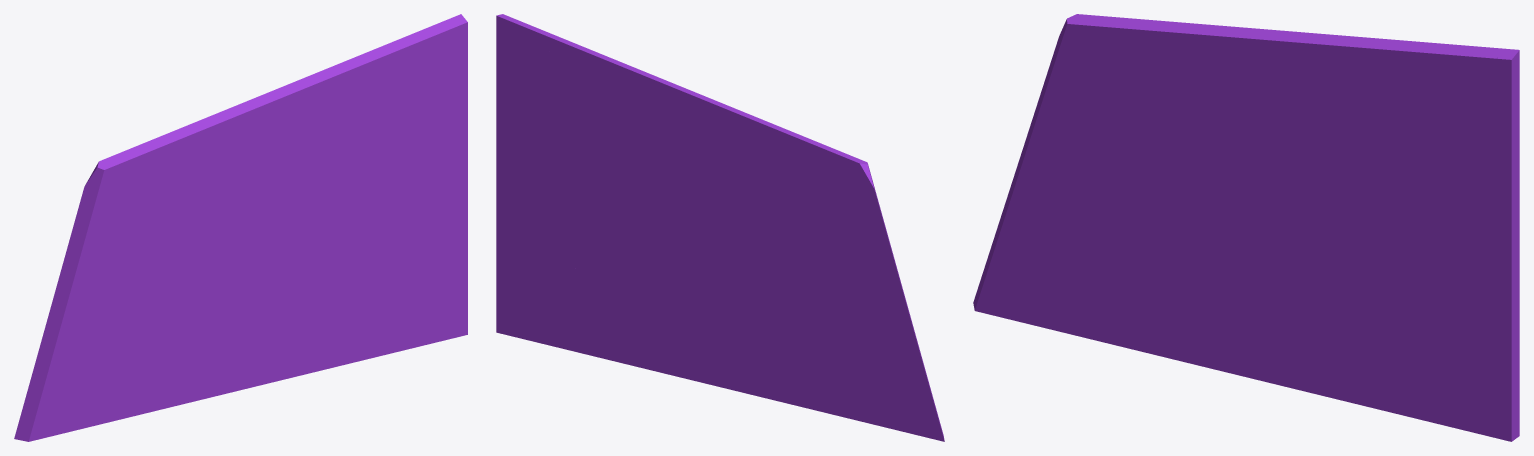
The model's file is Glass_12_2_chunks.fbx.
The picture shows the model from 3 angles, left to right: view 1: azimuth 30°, elevation 25°; view 2: azimuth 150°, elevation 25°; view 3: azimuth 330°, elevation 25°; orthographic projection. The views are drawn at different scales.
Parts seen in each view (by area): view 1: Glass_12_2_5, Glass_12_2_1, Glass_12_2_2, Glass_12_2_6, Glass_12_2_14, Glass_12_2_7, Glass_12_2_11, Glass_12_2_12, Glass_12_2_9, Glass_12_2_3, Glass_12_2_15, Glass_12_2_4 (+3 smaller); view 2: Glass_12_2_1, Glass_12_2_5, Glass_12_2_2, Glass_12_2_7, Glass_12_2_9, Glass_12_2_14, Glass_12_2_4, Glass_12_2_15, Glass_12_2_12, Glass_12_2_0, Glass_12_2_11, Glass_12_2_8 (+3 smaller); view 3: Glass_12_2_5, Glass_12_2_1, Glass_12_2_2, Glass_12_2_6, Glass_12_2_14, Glass_12_2_7, Glass_12_2_11, Glass_12_2_12, Glass_12_2_9, Glass_12_2_15, Glass_12_2_3, Glass_12_2_4 (+3 smaller).
Boxes of the visible parts, box(x1,y1,x2,y2) form: Glass_12_2_5: box(242, 222, 445, 379); Glass_12_2_1: box(14, 217, 162, 441); Glass_12_2_2: box(100, 312, 277, 424); Glass_12_2_6: box(322, 32, 436, 222); Glass_12_2_14: box(380, 188, 467, 339); Glass_12_2_7: box(231, 102, 330, 260); Glass_12_2_11: box(137, 66, 344, 183); Glass_12_2_12: box(359, 22, 456, 201); Glass_12_2_9: box(184, 60, 346, 227); Glass_12_2_3: box(160, 229, 259, 317); Glass_12_2_15: box(424, 14, 467, 197); Glass_12_2_4: box(102, 219, 231, 293); Glass_12_2_1: box(805, 213, 944, 441); Glass_12_2_5: box(523, 220, 704, 370); Glass_12_2_2: box(703, 296, 870, 423); Glass_12_2_7: box(605, 65, 722, 257); Glass_12_2_9: box(611, 62, 792, 227); Glass_12_2_14: box(496, 194, 577, 338); Glass_12_2_4: box(733, 220, 871, 304); Glass_12_2_15: box(496, 14, 548, 204); Glass_12_2_12: box(514, 19, 608, 182); Glass_12_2_0: box(653, 217, 739, 382); Glass_12_2_11: box(622, 64, 833, 178); Glass_12_2_8: box(788, 147, 882, 223); Glass_12_2_5: box(1235, 217, 1484, 435); Glass_12_2_1: box(973, 68, 1138, 332); Glass_12_2_2: box(1062, 233, 1279, 385); Glass_12_2_6: box(1333, 38, 1472, 233); Glass_12_2_14: box(1404, 236, 1519, 441); Glass_12_2_7: box(1222, 70, 1343, 222); Glass_12_2_11: box(1108, 18, 1366, 87); Glass_12_2_12: box(1379, 45, 1497, 241); Glass_12_2_9: box(1165, 37, 1379, 168); Glass_12_2_15: box(1458, 48, 1519, 279); Glass_12_2_3: box(1136, 172, 1256, 295); Glass_12_2_4: box(1064, 83, 1222, 208).
Size of the model in its own units: 1052 by 710 by 27.2.
